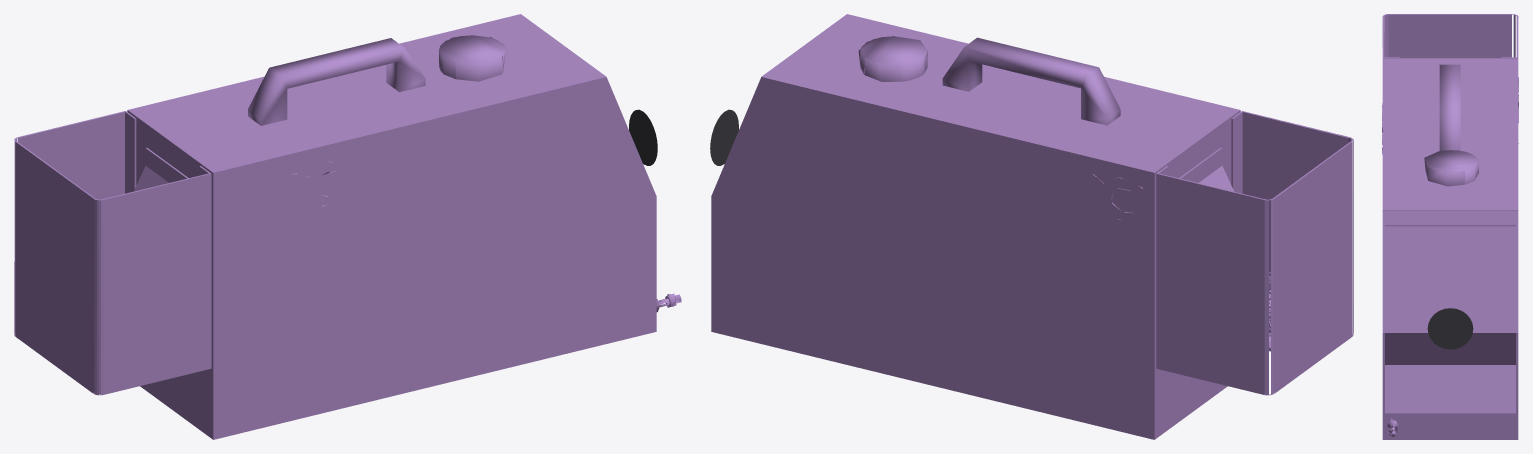
The model's file is hazer.glb.
The picture shows the model from 3 angles, left to right: view 1: azimuth 30°, elevation 25°; view 2: azimuth 150°, elevation 25°; view 3: azimuth 270°, elevation 25°; orthographic projection. The views are drawn at different scales.
Visible parts, largest first — view 1: head, lens; view 2: head, lens; view 3: head, lens.
Part boxes in pixels (x1=…): head: x1=14, y1=14, x2=681, y2=439; lens: x1=629, y1=109, x2=657, y2=165; head: x1=711, y1=14, x2=1353, y2=439; lens: x1=710, y1=109, x2=738, y2=165; head: x1=1382, y1=14, x2=1518, y2=439; lens: x1=1427, y1=308, x2=1473, y2=349.
Size of the model in its own units: 0.7051 by 0.3552 by 0.1799.
